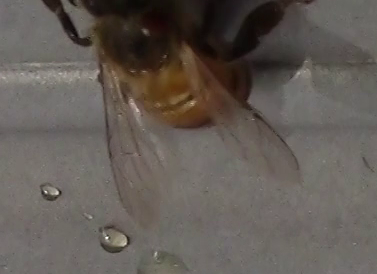Varroa destructor: (135, 17, 163, 45)
